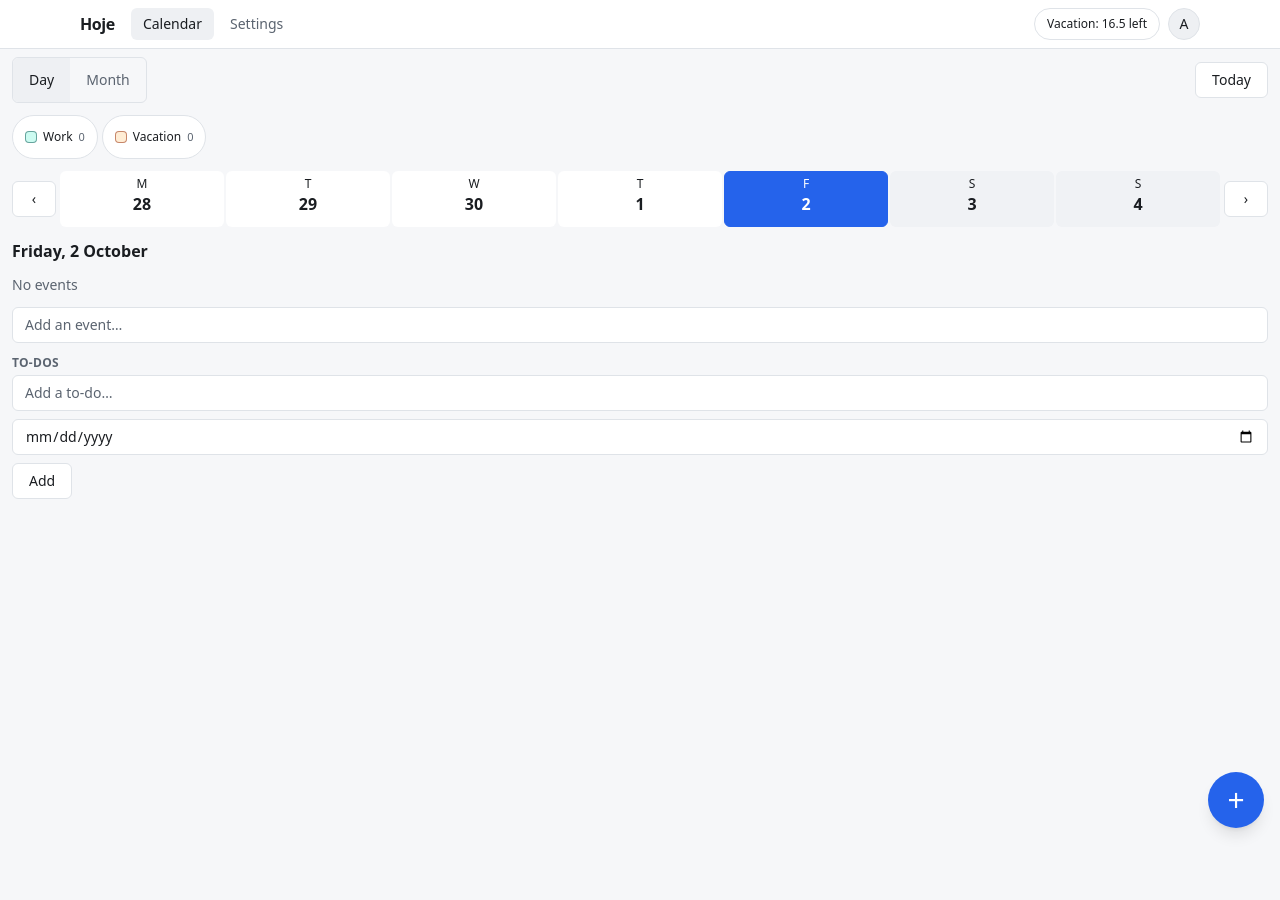
Test case: vacation pill: mobile (sheet) › opens balance as a dialog (sheet) on mobile viewport
Click the button "Vacation: 16.5 left".
click(1097, 24)  # box [1034,8,1160,40]
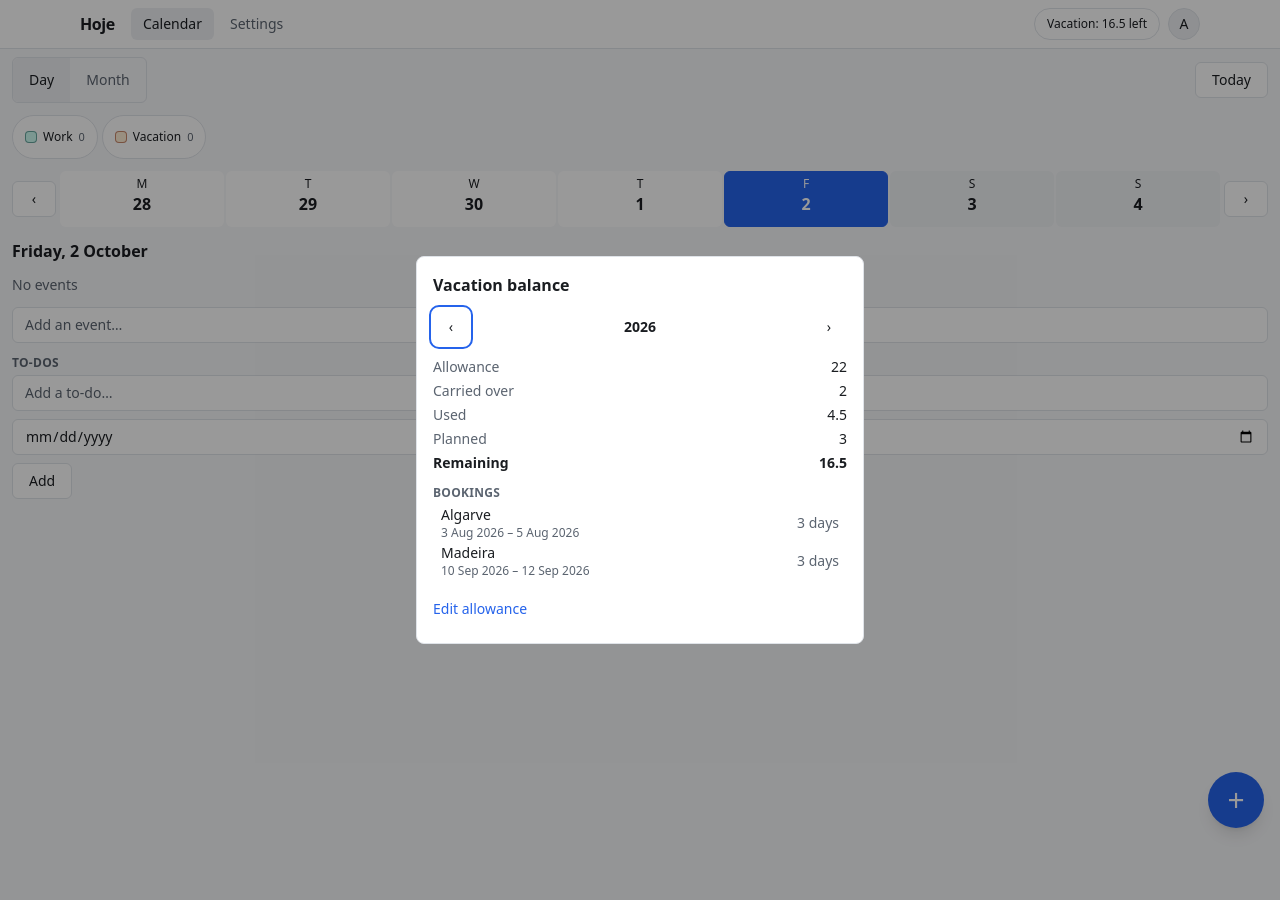
Check: the dialog "Vacation balance" is shown, box [416,256,864,644]
